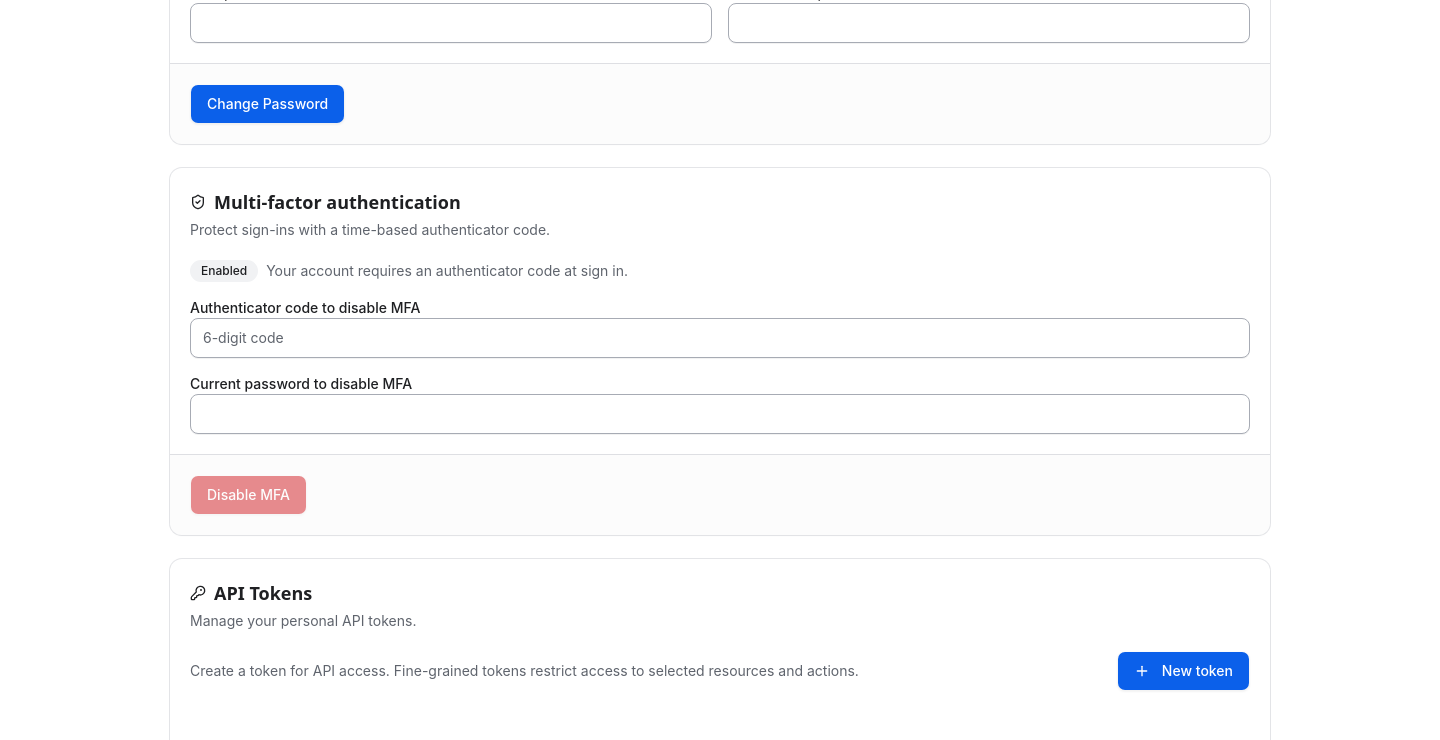
Test case: disables MFA with a current authenticator code and password
The width and height of the screenshot is (1440, 740).
(page scrolled)
Check: the text "Your account requires an authenticator code at sign in." is shown, box left=266, top=261, right=628, bottom=281
Check: the button "Disable MFA" is disabled, box left=190, top=475, right=307, bottom=515
Type "123456" into the field labelled "Authenticator code to disable MFA".
click(720, 338); type("123456")  # box left=190, top=318, right=1250, bottom=358
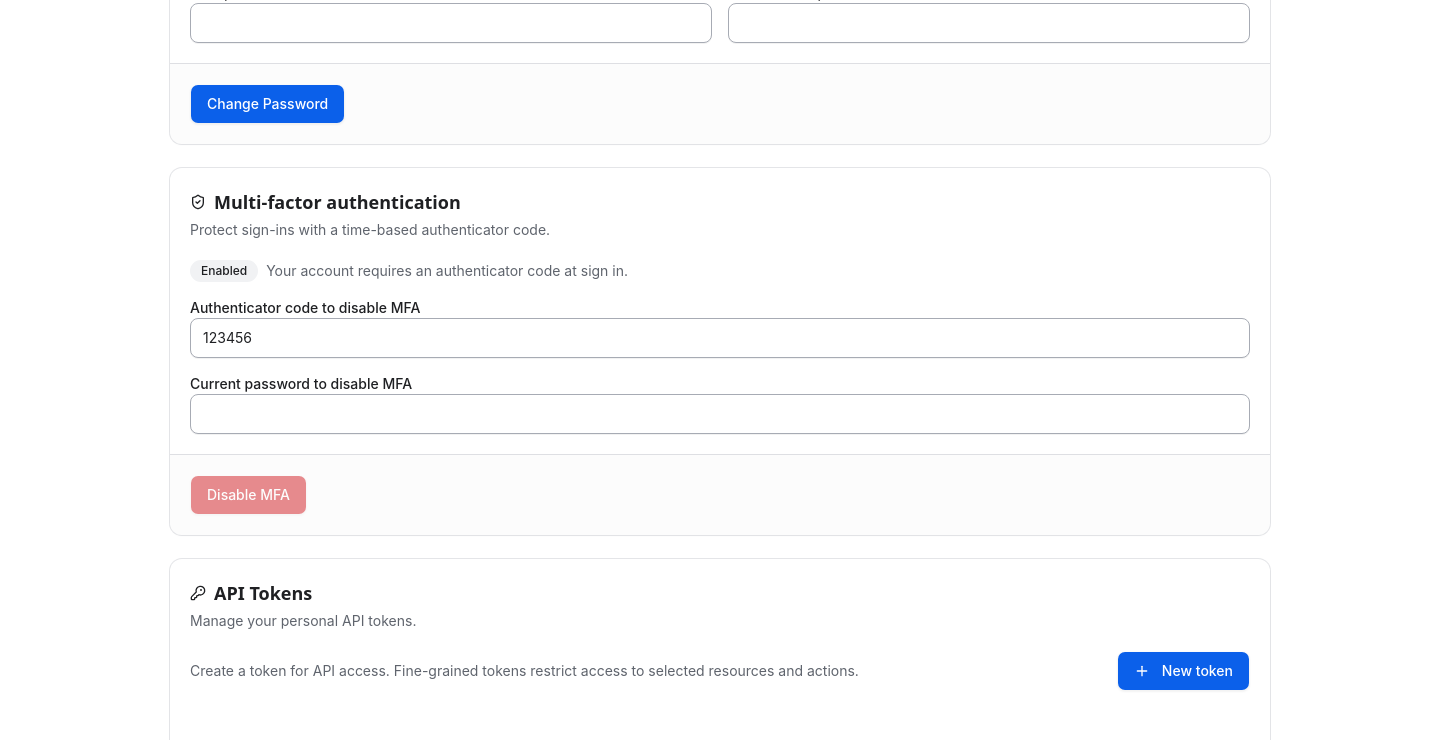
Check: the button "Disable MFA" is disabled, box left=190, top=475, right=307, bottom=515
Type "password" into the password field labelled "Current password to disable MFA".
click(720, 414); type("password")  # box left=190, top=394, right=1250, bottom=434
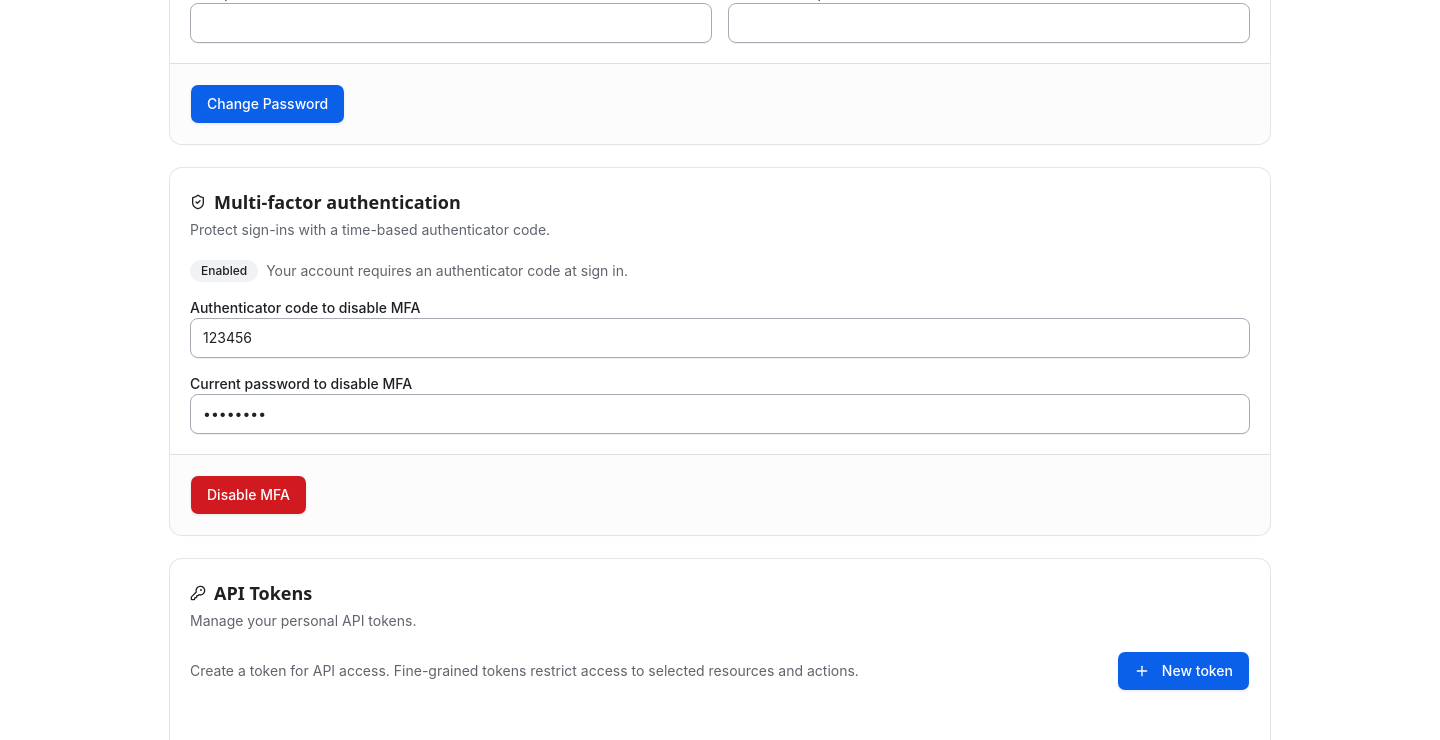
Check: the button "Disable MFA" is enabled
Click the button "Disable MFA".
click(248, 495)  # box left=190, top=475, right=307, bottom=515
(page scrolled)
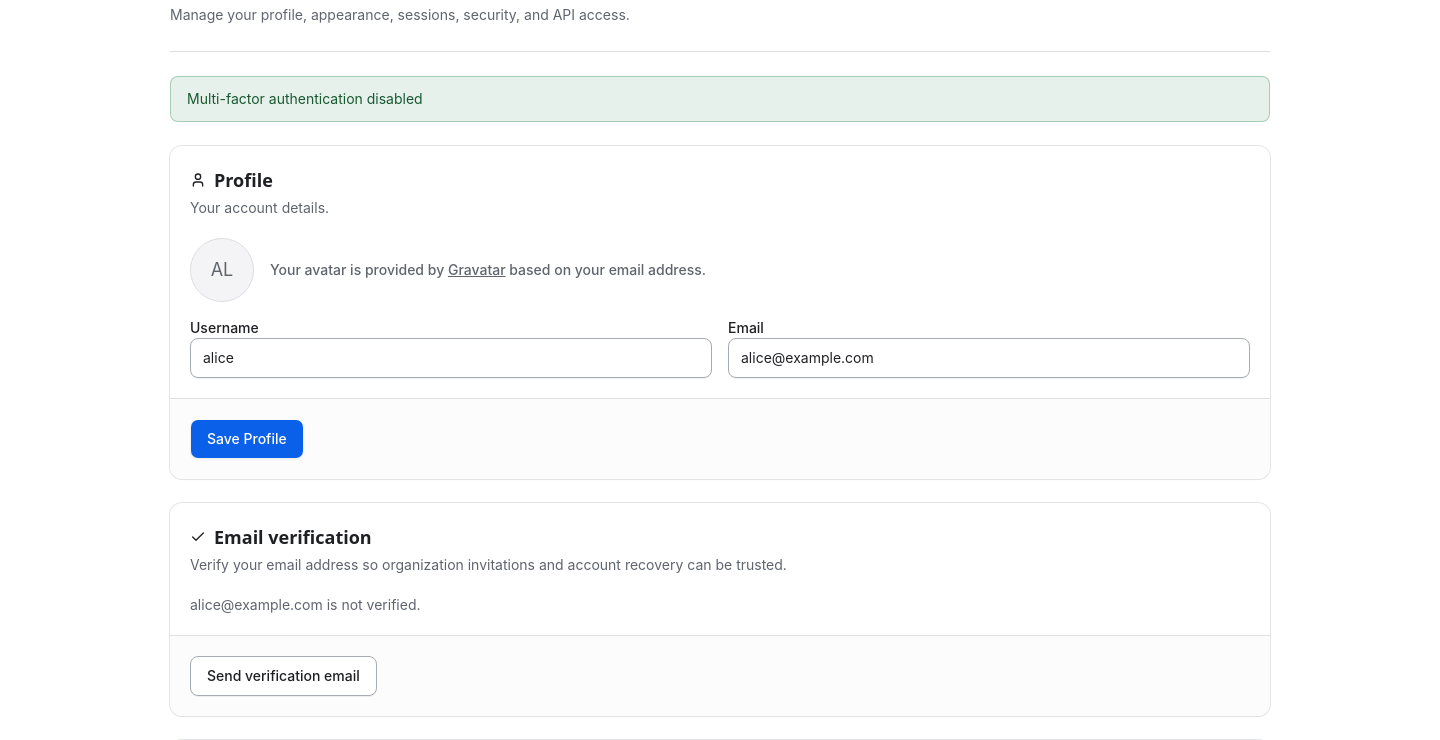
Check: the text "Multi-factor authentication disabled" is shown, box left=170, top=76, right=1270, bottom=122
